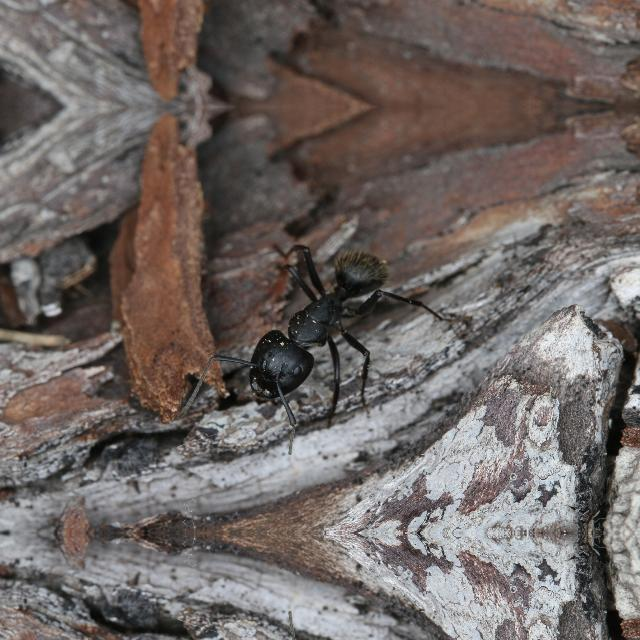Camponotus: (217, 223, 431, 424)
